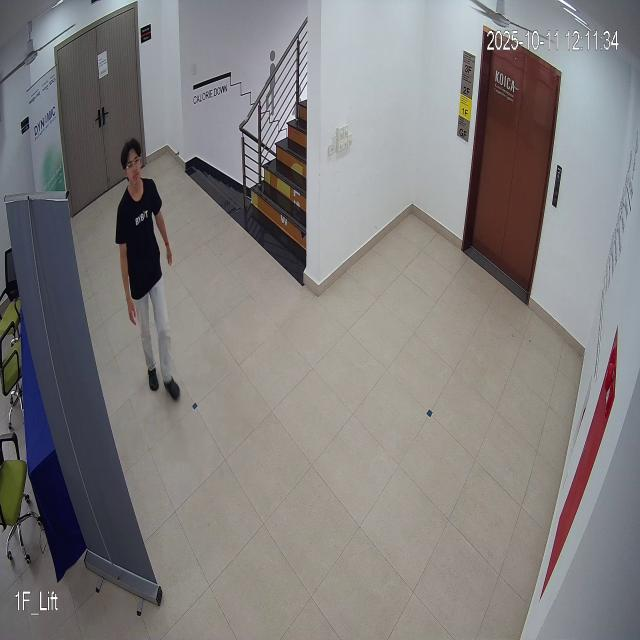face: (119, 136, 148, 192)
